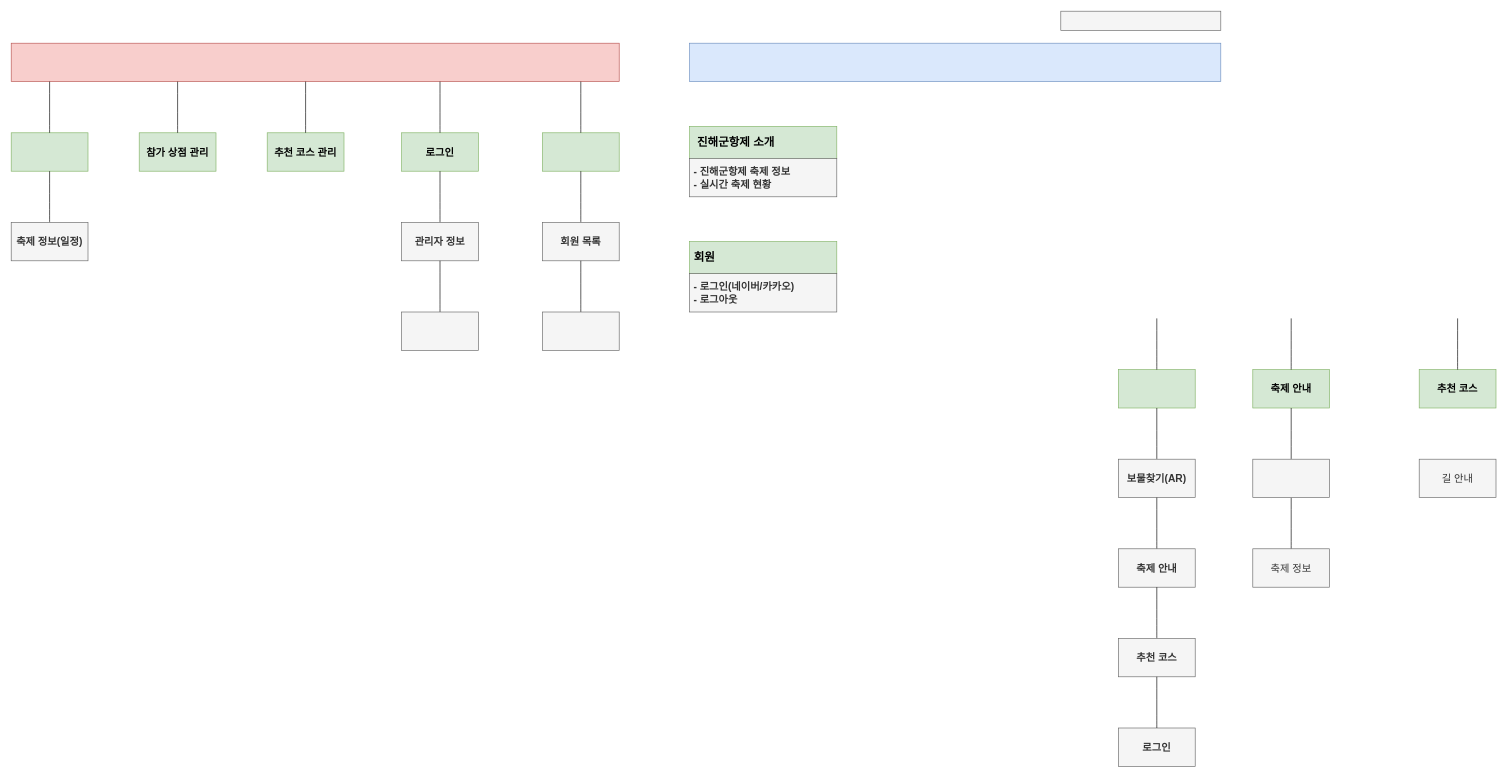
Image size: 1507x778. Some labels were removed from this diagram. The shapes that lost their labels are listed below. From the top down, each one's centre as x and y in pixels, then its label:
At point 1140,20: "로그인(네이버/카카오) / 로그아웃".
At point 315,62: "관리자 메인 화면".
At point 955,62: "사용자 메인 화면".
At point 49,151: "축제 관리".
At point 580,151: "회원 관리".
At point 439,330: "로그아웃".
At point 580,330: "푸시 발송".
At point 1156,388: "메뉴".
At point 1291,478: "실시간 축제 현황".
